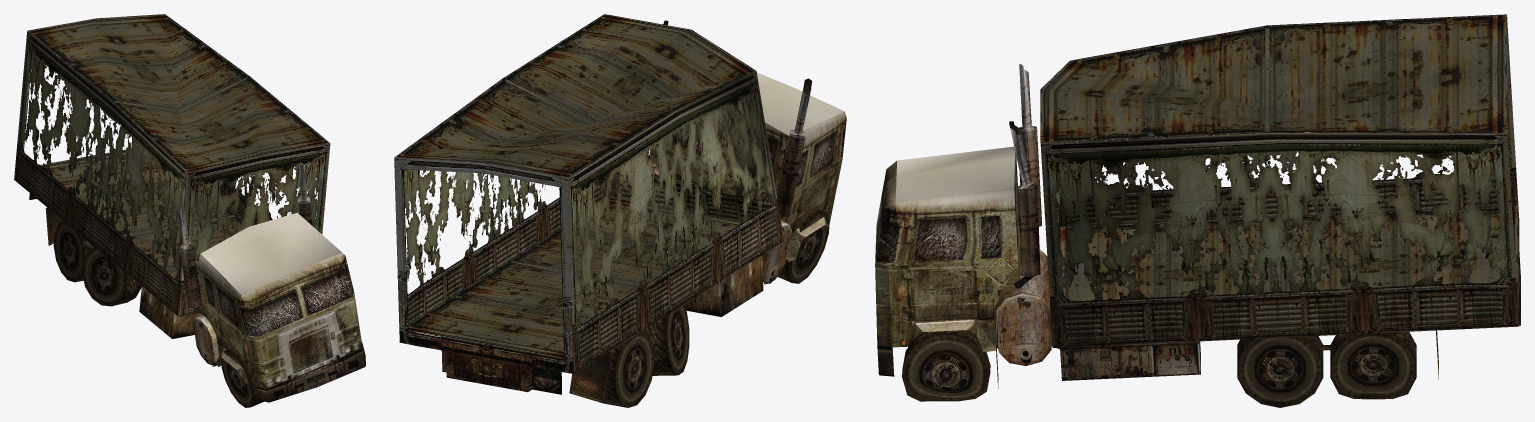
Rendered from NCTrk1X.glb.
3 views of the same model, side by side, from view 1: azimuth 30°, elevation 25°; view 2: azimuth 150°, elevation 25°; view 3: azimuth 270°, elevation 25° (orthographic). The views are drawn at different scales.
Parts seen in each view (by area): view 1: _NCTrk1X; view 2: _NCTrk1X; view 3: _NCTrk1X.
Part boxes in pixels (x1,y1,x2,y2): _NCTrk1X: (14,14,365,407); _NCTrk1X: (394,14,846,407); _NCTrk1X: (875,14,1520,407).
Size of the model in its own units: 3.39 by 4.71 by 8.47.
Materials: 3 (3 with a texture image).
